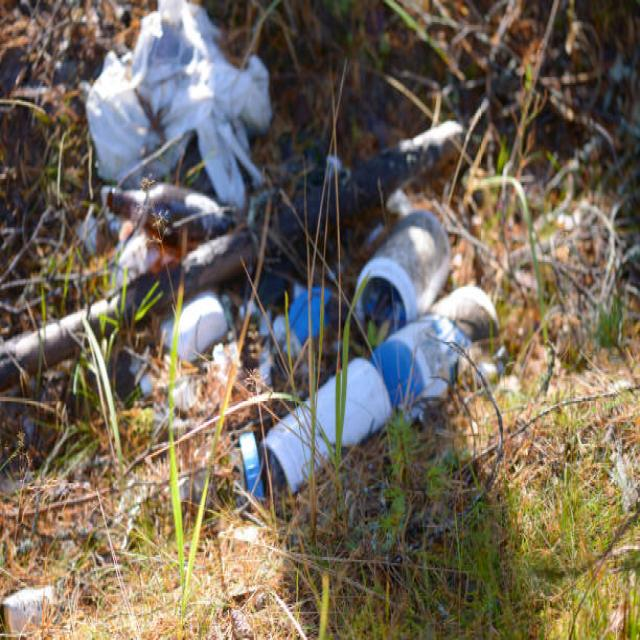plastic: (343, 199, 495, 391)
